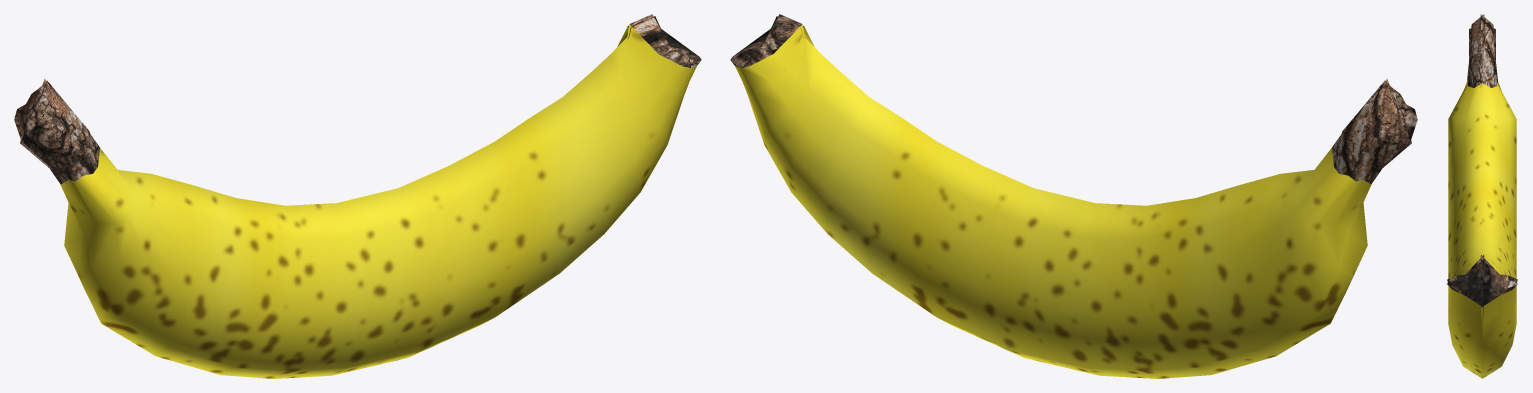
The model's file is banana.fbx.
The picture shows the model from 3 angles, left to right: view 1: azimuth 30°, elevation 25°; view 2: azimuth 150°, elevation 25°; view 3: azimuth 270°, elevation 25°; orthographic projection. The views are drawn at different scales.
Parts seen in each view (by area): view 1: Banana, Banana stem, Banana butt; view 2: Banana, Banana stem, Banana butt; view 3: Banana, Banana butt, Banana stem.
Boxes of the visible parts, left/top/right/bottom form: Banana: left=60, top=24, right=696, bottom=378; Banana stem: left=14, top=79, right=99, bottom=184; Banana butt: left=628, top=14, right=701, bottom=67; Banana: left=735, top=24, right=1371, bottom=378; Banana stem: left=1332, top=79, right=1417, bottom=184; Banana butt: left=730, top=14, right=803, bottom=67; Banana: left=1448, top=82, right=1516, bottom=378; Banana butt: left=1446, top=255, right=1518, bottom=307; Banana stem: left=1467, top=14, right=1497, bottom=87.
Size of the model in its own units: 1.38 by 0.728 by 0.2014.
